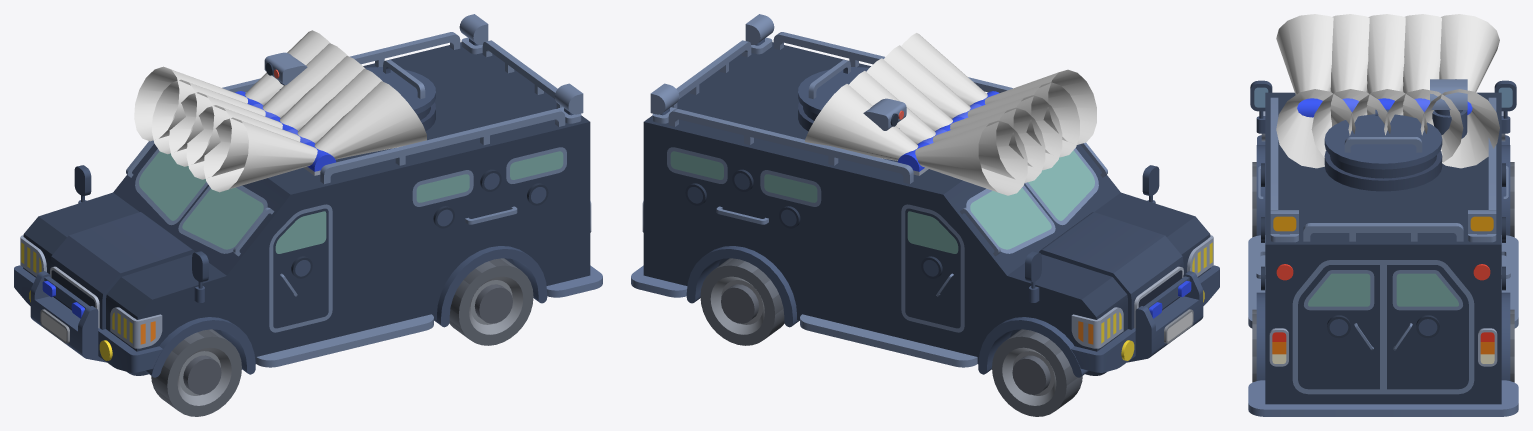
File: Swat Police Car.fbx
The picture shows the model from 3 angles, left to right: view 1: azimuth 30°, elevation 25°; view 2: azimuth 150°, elevation 25°; view 3: azimuth 270°, elevation 25°; orthographic projection. The views are drawn at different scales.
Parts seen in each view (by area): view 1: Swat Truck, FonarStolb1.006, FonarStolb1.007, Swat Truck Wheel, Swat Truck Wheel.001, Swat Truck Cover; view 2: Swat Truck, FonarStolb1.006, FonarStolb1.007, Swat Truck Wheel, Swat Truck Wheel.001, Swat Truck Cover; view 3: Swat Truck, FonarStolb1.006, Swat Truck Door, Swat Truck Door.001, FonarStolb1.007, Swat Truck Cover, Swat Truck Wheel, Swat Truck Wheel.001.
Boxes of the visible parts, x1,y1,x2,y2 form: Swat Truck: (14,14,602,377); FonarStolb1.006: (134,30,426,192); FonarStolb1.007: (152,43,382,179); Swat Truck Wheel: (151,329,241,416); Swat Truck Wheel.001: (449,258,533,345); Swat Truck Cover: (365,60,435,114); Swat Truck: (631,14,1219,377); FonarStolb1.006: (805,33,1096,195); FonarStolb1.007: (849,45,1079,182); Swat Truck Wheel: (992,329,1082,416); Swat Truck Wheel.001: (700,258,784,345); Swat Truck Cover: (798,60,868,114); Swat Truck: (1248,79,1518,416); FonarStolb1.006: (1276,14,1499,168); Swat Truck Door: (1292,260,1383,394); Swat Truck Door.001: (1383,260,1474,394); FonarStolb1.007: (1311,14,1463,162); Swat Truck Cover: (1324,114,1442,169); Swat Truck Wheel: (1252,162,1514,237); Swat Truck Wheel.001: (1252,309,1514,382).
Size of the model in its own units: 13.57 by 6.81 by 6.25.
